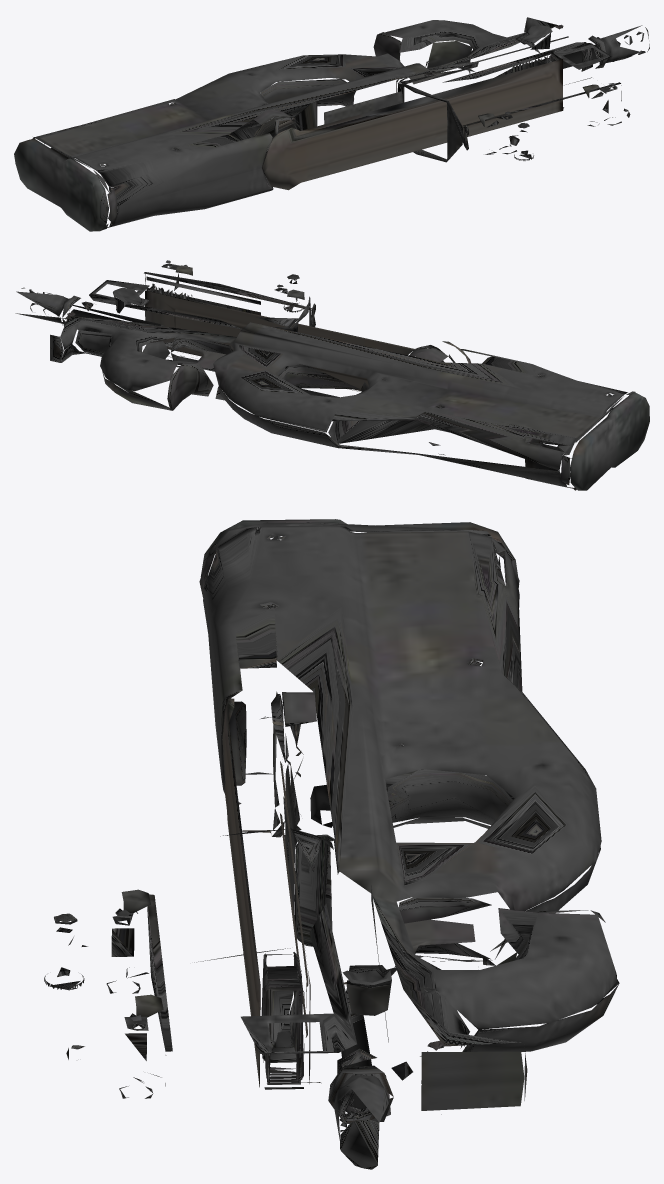
The picture shows the model from 3 angles, top to bottom: view 1: azimuth 30°, elevation 25°; view 2: azimuth 150°, elevation 25°; view 3: azimuth 270°, elevation 25°; orthographic projection. The views are drawn at different scales.
Parts seen in each view (by area): view 1: p_p90; view 2: p_p90; view 3: p_p90.
Boxes of the visible parts, left/top/right/bottom form: p_p90: left=14, top=17, right=649, bottom=231; p_p90: left=15, top=260, right=649, bottom=490; p_p90: left=44, top=519, right=619, bottom=1169.
Bounding box in the file's own units: 0.6403 × 0.0712 × 0.2676.
2 materials, 2 textured.
